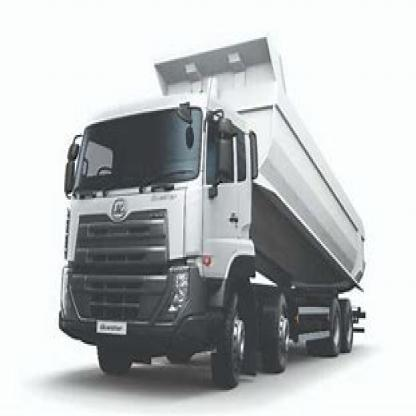dump_truck: (48, 33, 375, 379)
